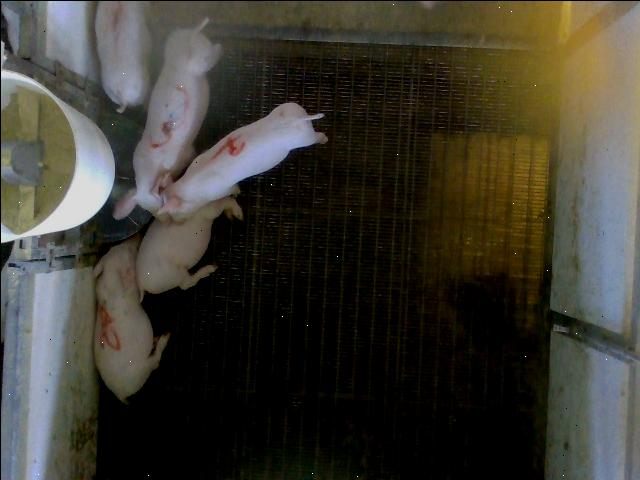pig-1: (94, 1, 149, 112)
pig-3: (112, 19, 221, 219)
pig-4: (159, 102, 326, 220)
pig-5: (92, 233, 169, 402)
